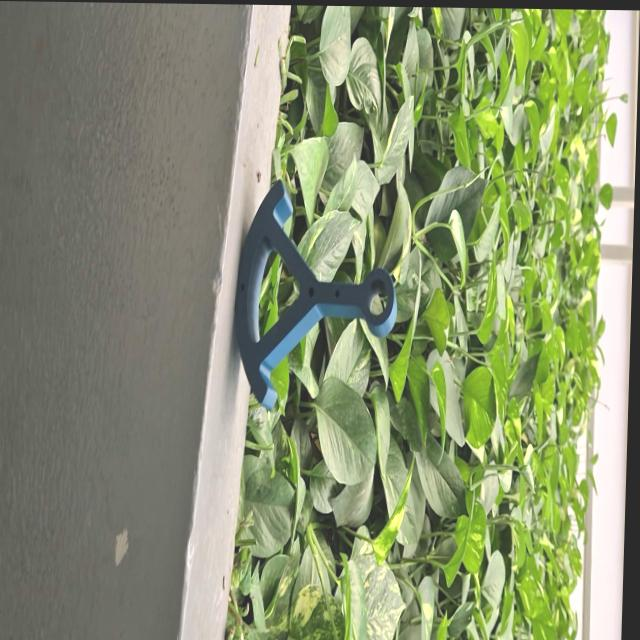haptic: (230, 173, 403, 416)
